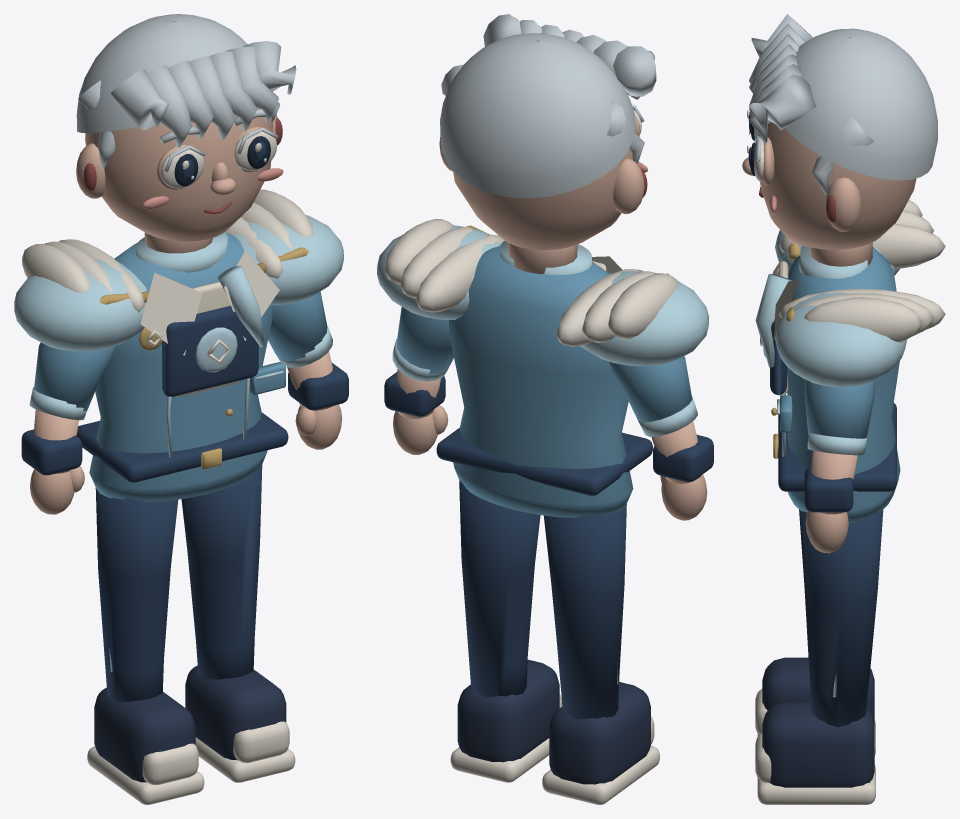
Rendered from elite_frost_sentinel.glb.
3 renders of one model, left to right at view 1: azimuth 30°, elevation 25°; view 2: azimuth 150°, elevation 25°; view 3: azimuth 270°, elevation 25°, orthographic.
Visible parts, largest first — view 1: figure.013; view 2: figure.013; view 3: figure.013.
Part boxes in pixels (x1,y1,x2,y2): figure.013: (14, 14, 348, 804); figure.013: (377, 14, 713, 804); figure.013: (742, 14, 945, 804).
Size of the model in its own units: 1.18 by 2.63 by 0.6625.
